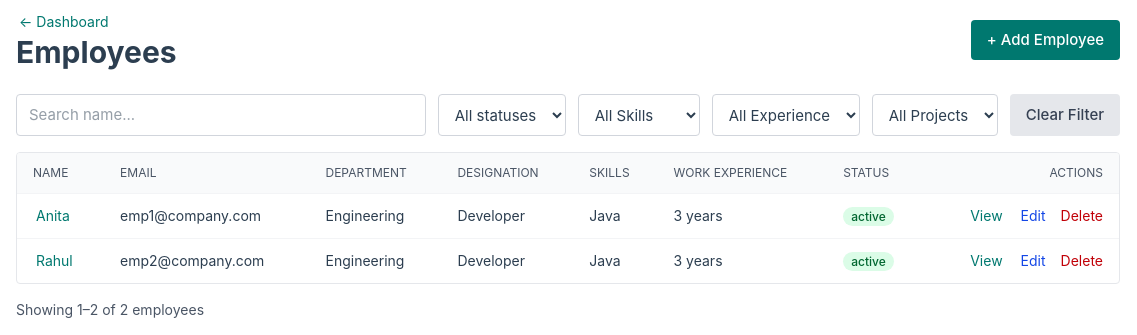
EmployeeListView › filters employees by search text
In the search field with placeholder "Search name...": (221, 115) [16,94,426,136], type "rahul"
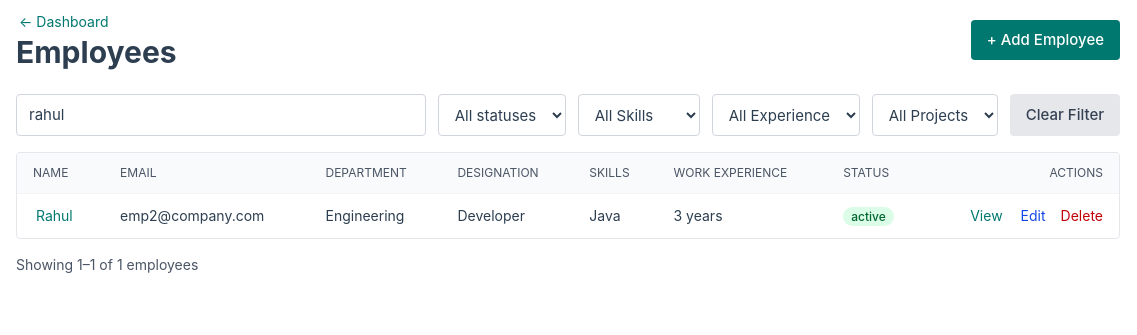
Expected: the text "Rahul" is shown, [33,204,76,227]
Expected: the text "Anita" is gone
